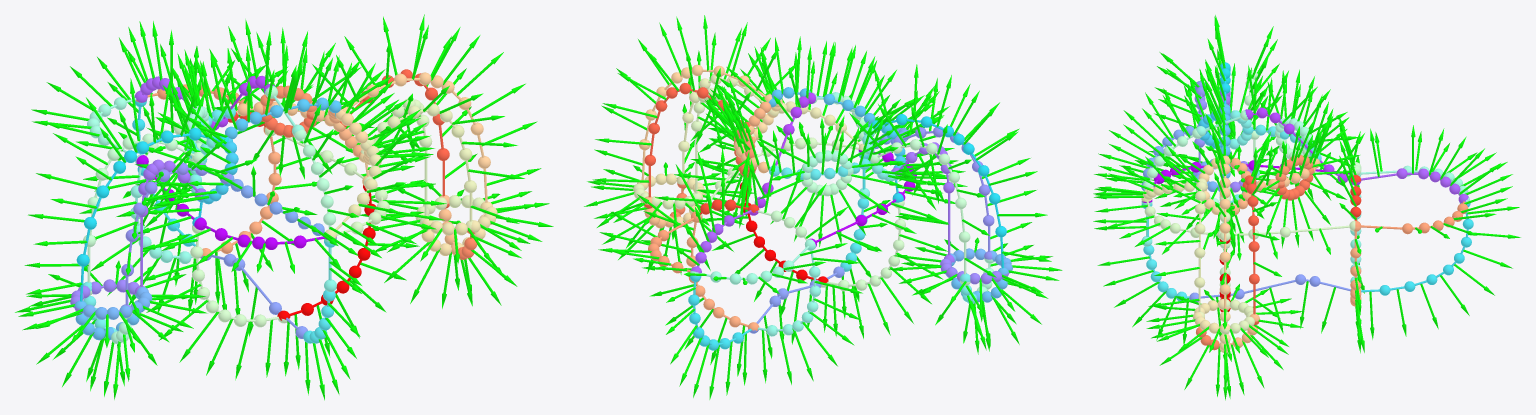
Rendered from scaffolds3d_dog.gltf.
3 views of the same model, side by side, from view 1: azimuth 30°, elevation 25°; view 2: azimuth 150°, elevation 25°; view 3: azimuth 270°, elevation 25° (orthographic). The views are drawn at different scales.
Size of the model in its own units: 0.9129 by 0.5692 by 0.7852.
